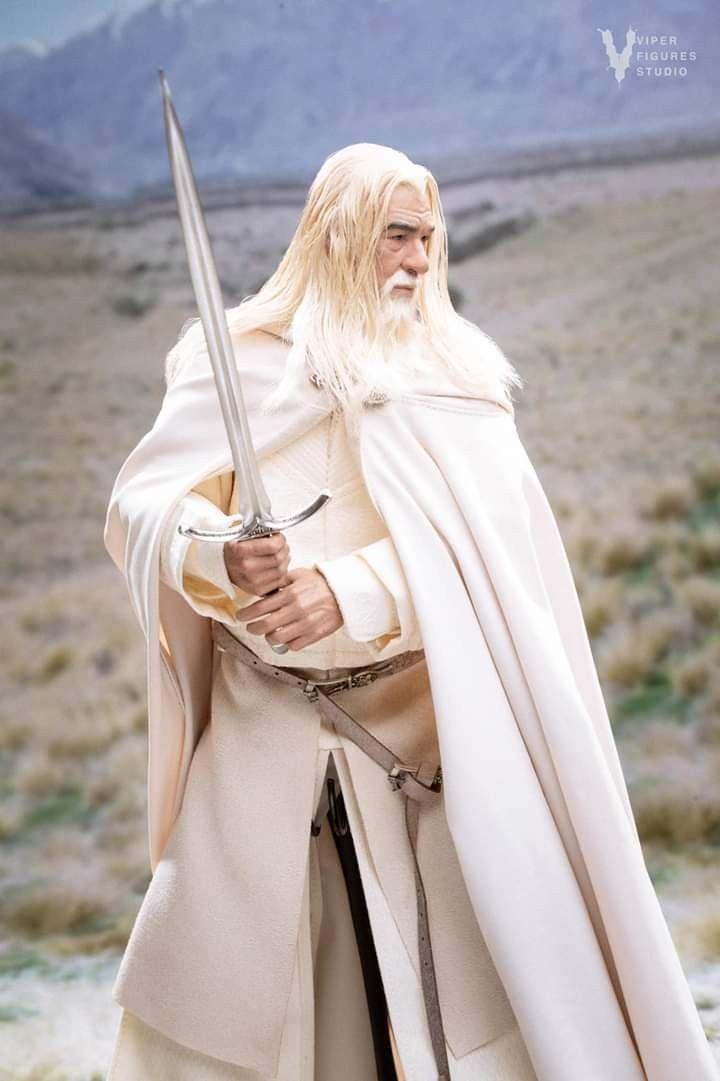gandalf gray: (95, 70, 694, 1062)
